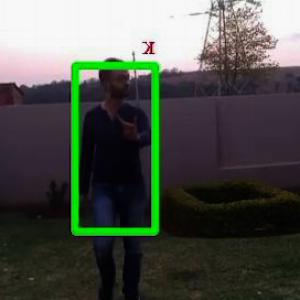takeoff-hand: (114, 105, 144, 144)
